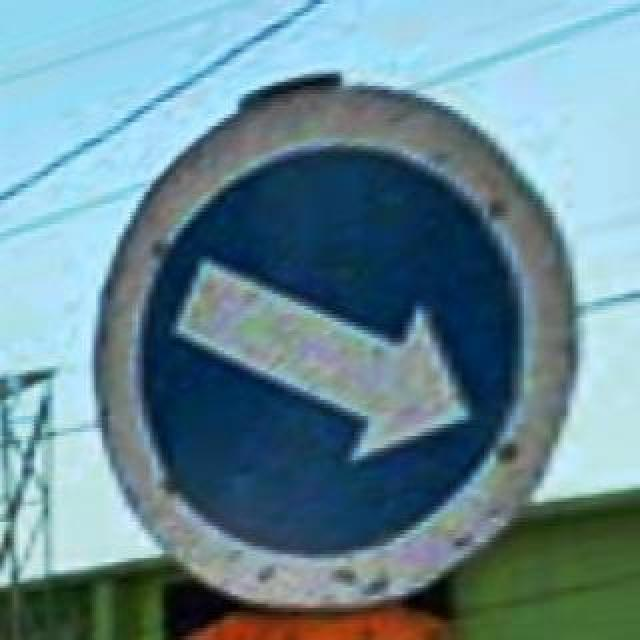keep right: (92, 78, 582, 612)
